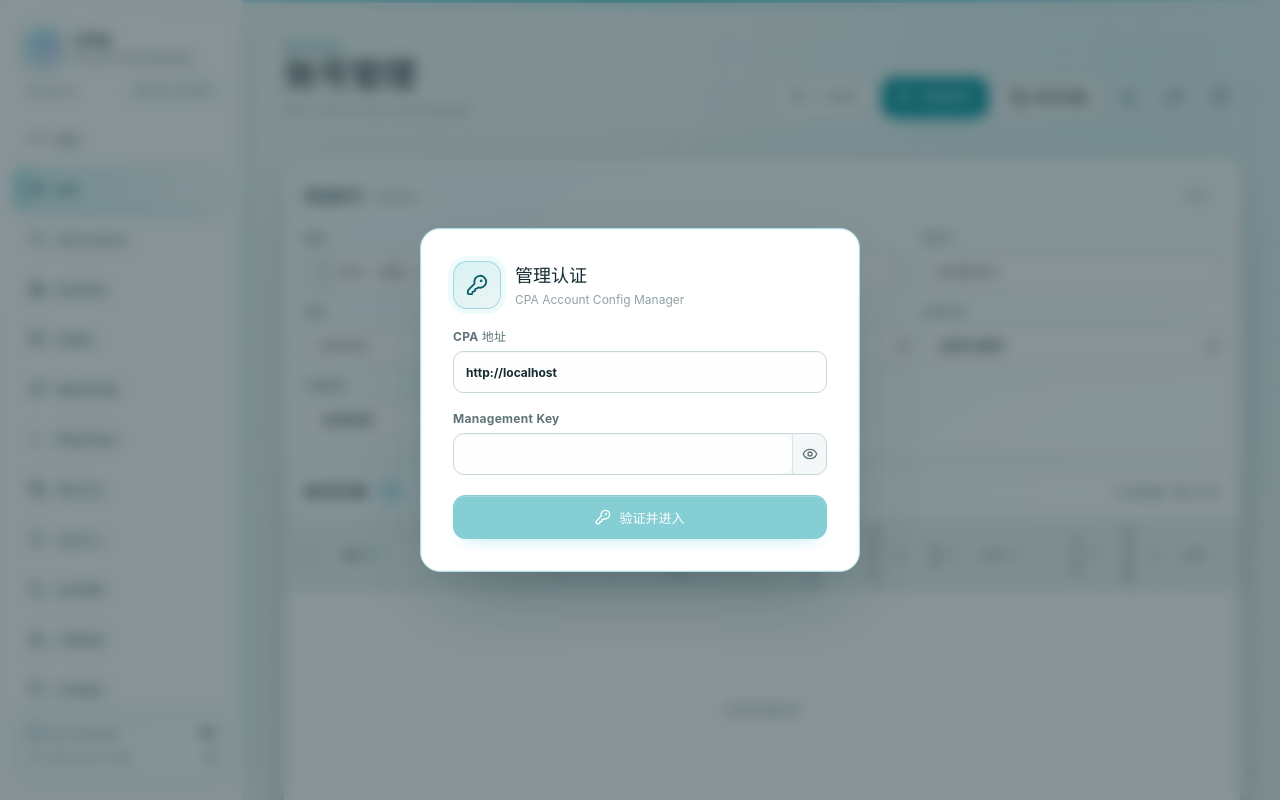
it: primary account batch flow › renders the first account page without reconfiguring CPA on bootstrap (manual)
This screenshot has width=1280, height=800.
Step 1. Type "management-secret" into the password field labelled "Management Key" → (623, 454), box left=454, top=434, right=792, bottom=474
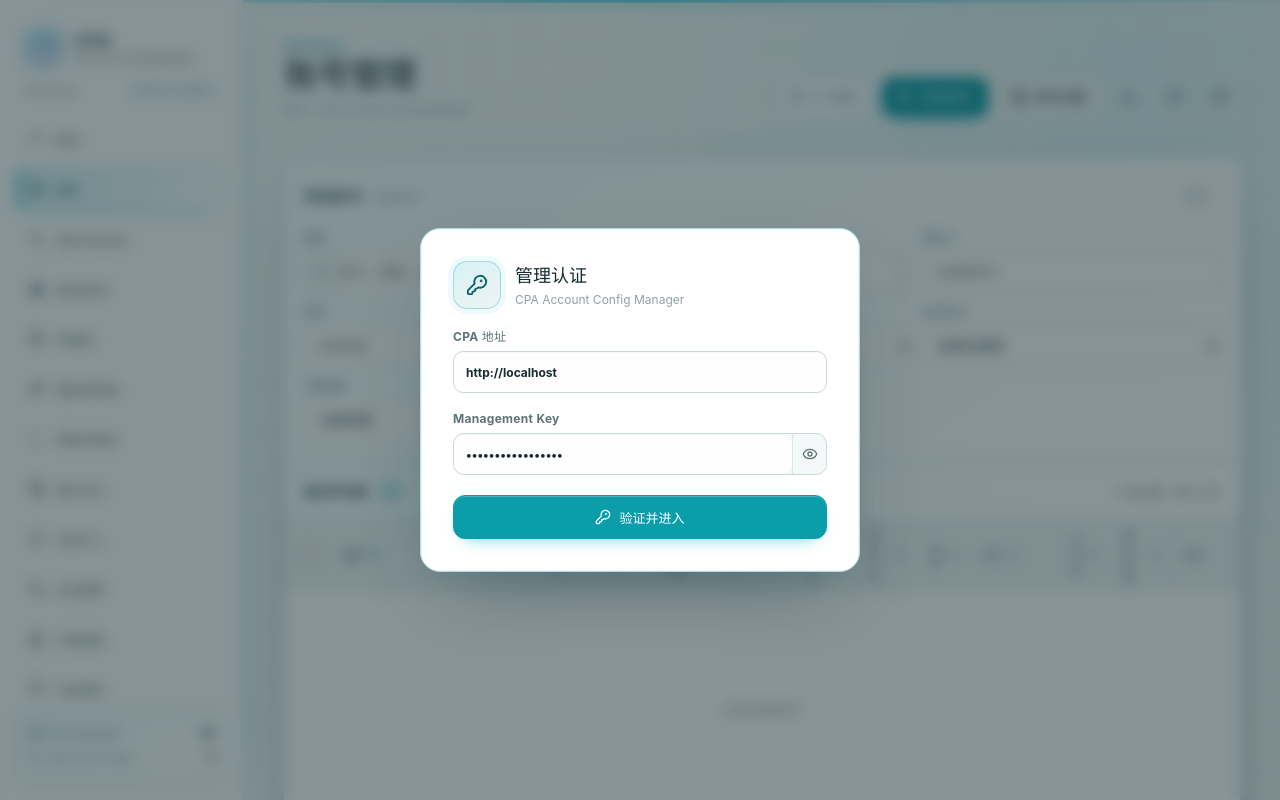
Step 2. Click the button "验证并进入" → (640, 517), box left=453, top=495, right=827, bottom=539
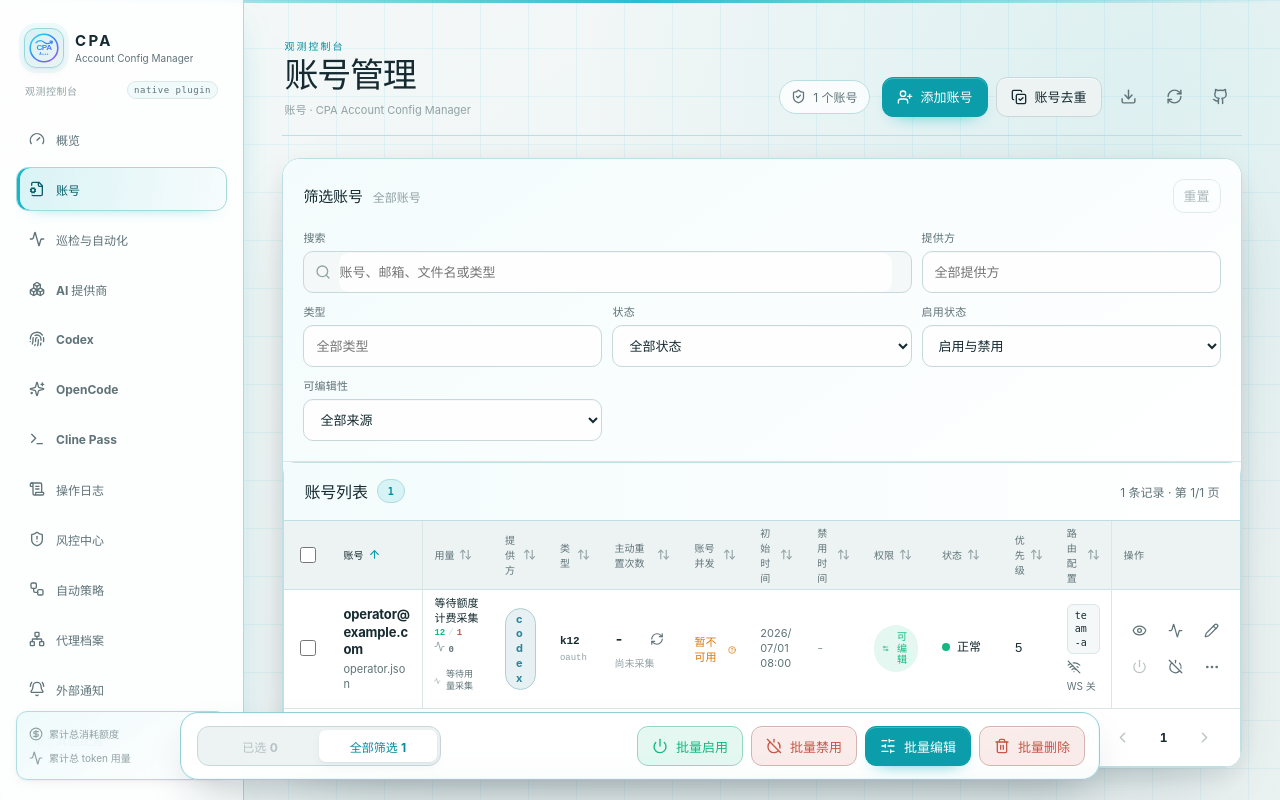
Now the text "operator@example.com" is shown, box left=343, top=606, right=410, bottom=659
